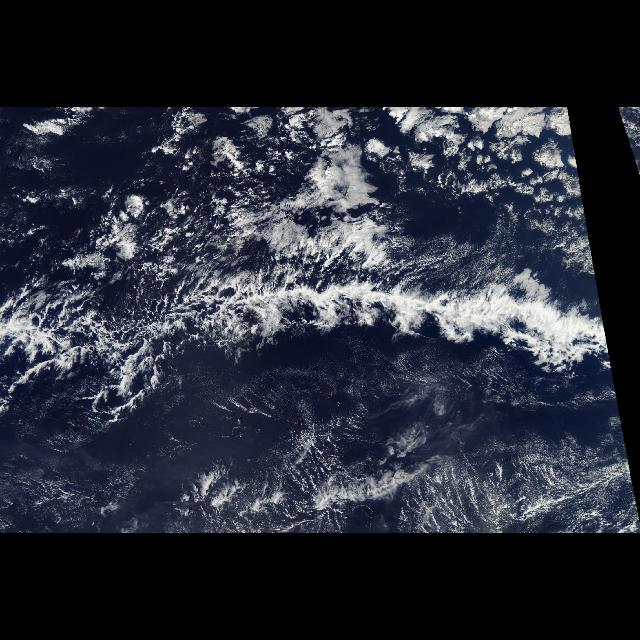Fish: (2, 236, 620, 409)
Sugar: (2, 381, 640, 534)
